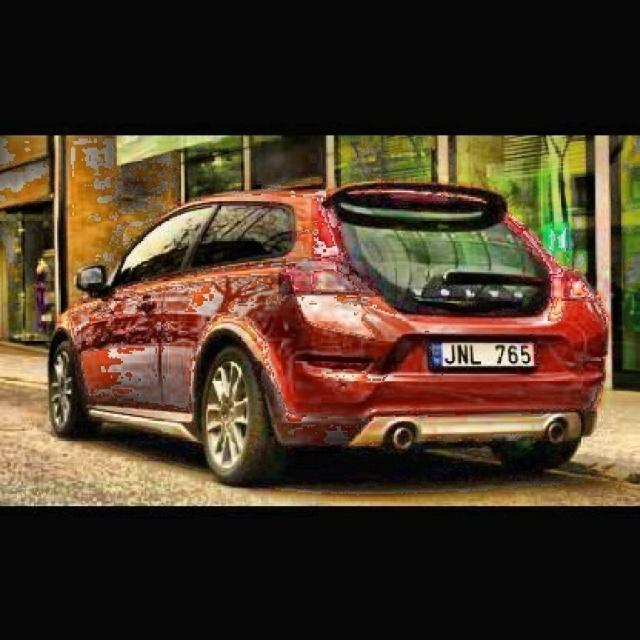maroon: (49, 191, 608, 487)
